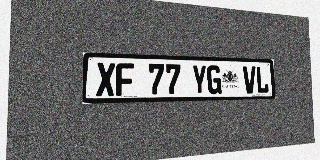7: (148, 64, 165, 95), (165, 64, 181, 95)
F: (116, 63, 134, 96)
G: (207, 65, 222, 94)
L: (256, 66, 269, 93)
V: (243, 66, 256, 94)
X: (96, 62, 115, 96)
Y: (192, 65, 207, 95)
